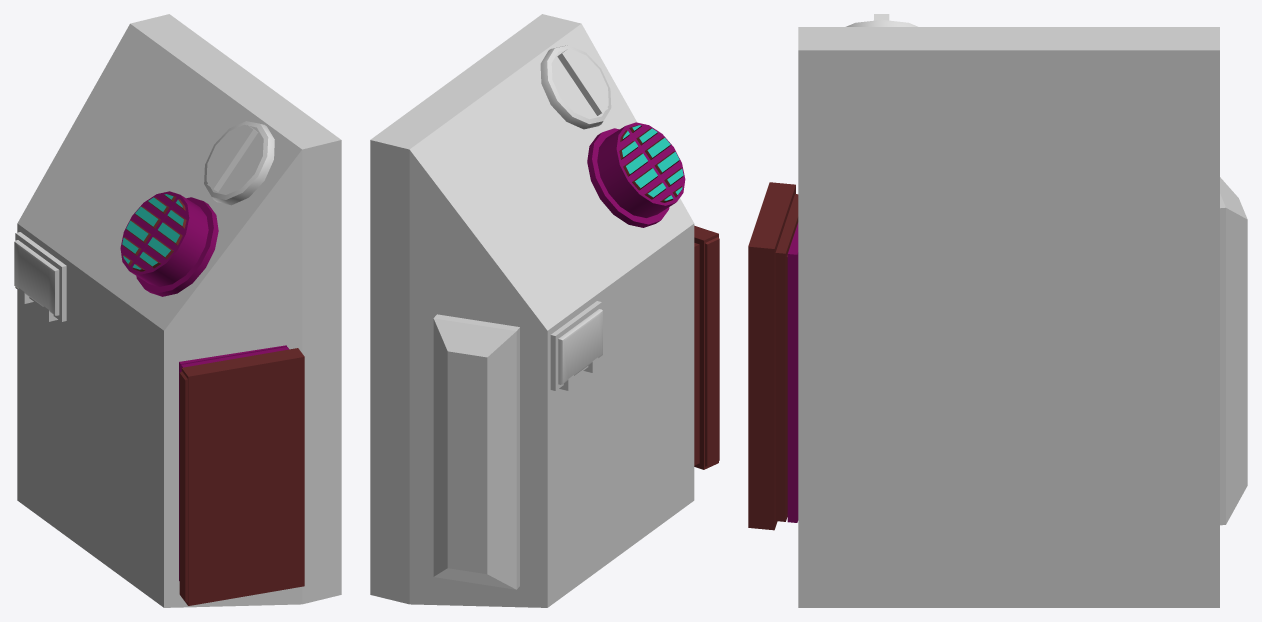
File: qbEngine.fbx
3 views of the same model, side by side, from view 1: azimuth 30°, elevation 25°; view 2: azimuth 150°, elevation 25°; view 3: azimuth 270°, elevation 25° (orthographic). The views are drawn at different scales.
Parts seen in each view (by area): view 1: Box048; view 2: Box048; view 3: Box048.
Boxes of the visible parts, <box> form: Box048: <box>14,14,341,607</box>; Box048: <box>370,14,719,607</box>; Box048: <box>748,14,1247,607</box>.
Bounding box in the file's own units: 0.1628 × 0.4081 × 0.3298.
